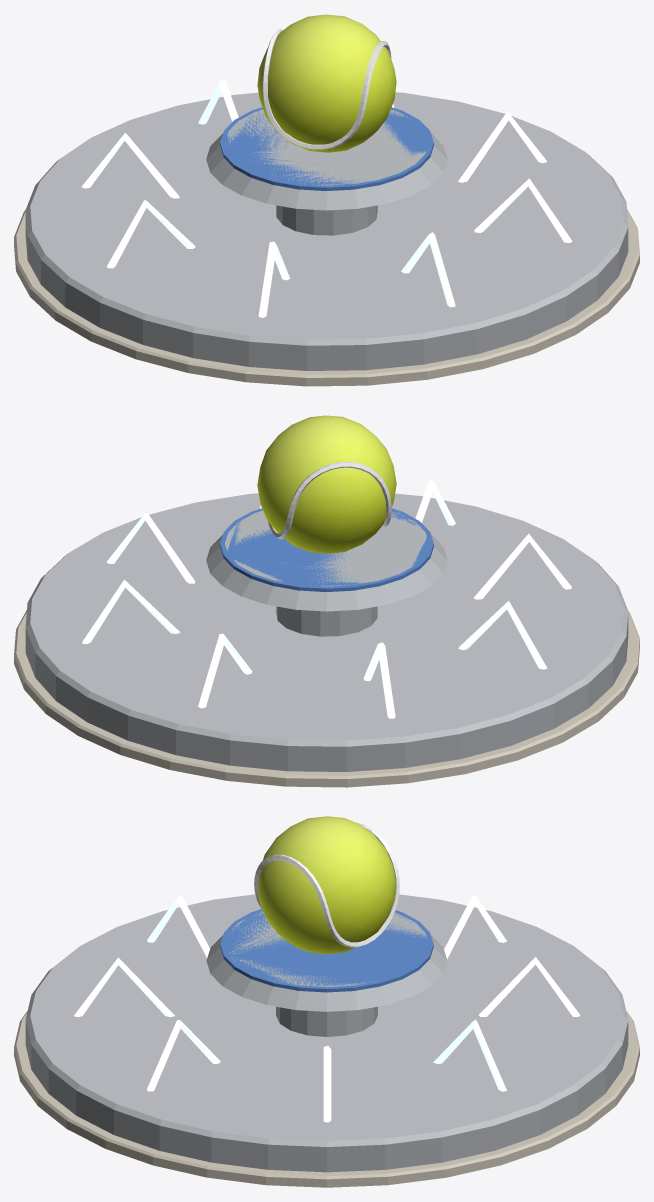
File: Fountain.glb
The picture shows the model from 3 angles, top to bottom: view 1: azimuth 30°, elevation 25°; view 2: azimuth 150°, elevation 25°; view 3: azimuth 270°, elevation 25°; orthographic projection.
Visible parts, largest first — view 1: Fountain, Fountain_Glow_jet; view 2: Fountain, Fountain_Glow_jet; view 3: Fountain, Fountain_Glow_jet.
Part boxes in pixels (box(x1,y1,x2,y2)): Fountain: box(14, 14, 639, 386); Fountain_Glow_jet: box(81, 79, 572, 317); Fountain: box(14, 415, 639, 787); Fountain_Glow_jet: box(82, 480, 571, 718); Fountain: box(14, 816, 639, 1187); Fountain_Glow_jet: box(74, 894, 579, 1122).
Size of the model in its own units: 27 by 11.1 by 27.
2 materials, 1 textured.
